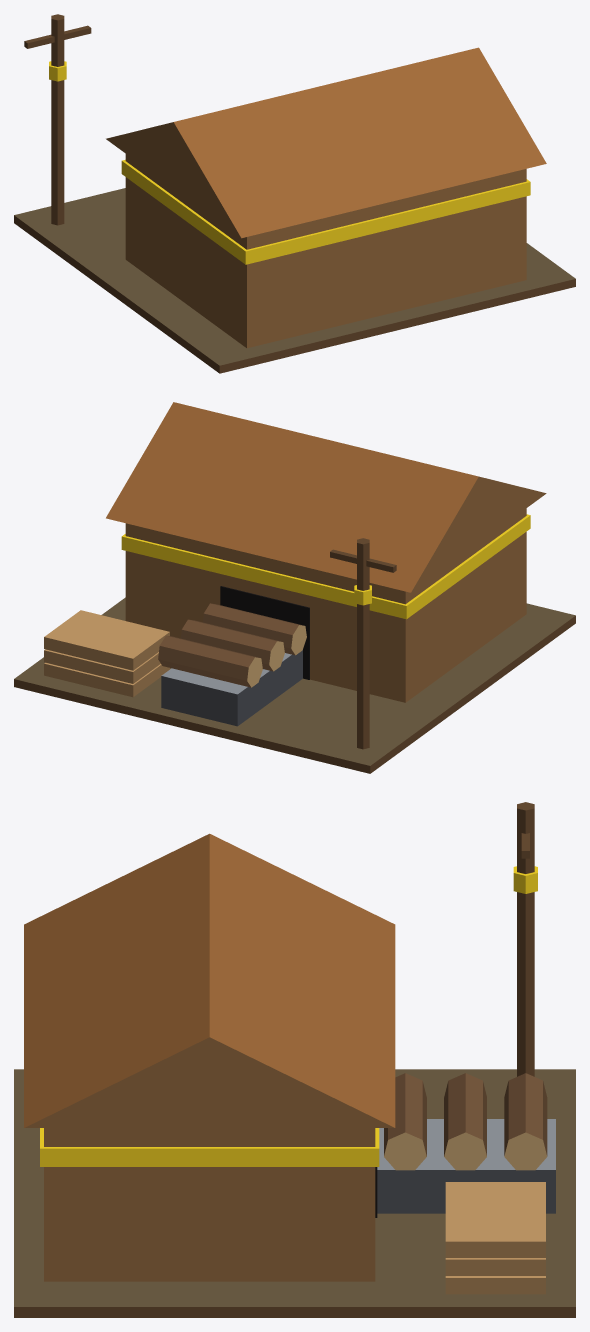
Rendered from lumber_mill.glb.
3 renders of one model, top to bottom at view 1: azimuth 30°, elevation 25°; view 2: azimuth 150°, elevation 25°; view 3: azimuth 270°, elevation 25°, orthographic. The views are drawn at different scales.
Parts seen in each view (by area): view 1: lumber_mill; view 2: lumber_mill; view 3: lumber_mill.
Boxes of the visible parts, x1=… form: lumber_mill: x1=14, y1=14, x2=575, y2=373; lumber_mill: x1=14, y1=402, x2=575, y2=773; lumber_mill: x1=14, y1=802, x2=575, y2=1317.
Bounding box in the file's own units: 2.85 × 1.6 × 2.8.
